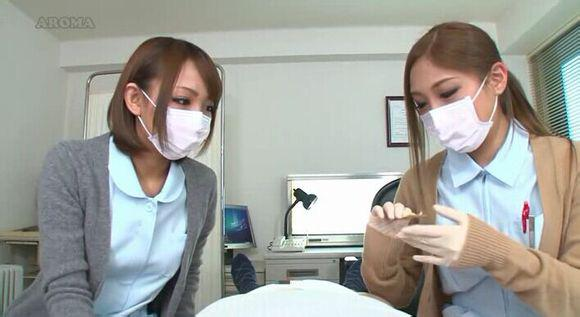OK: (411, 76, 496, 156), (134, 82, 216, 161)
